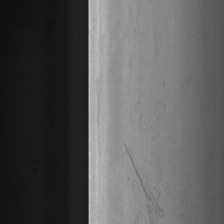water_spot: (122, 136, 169, 223)
